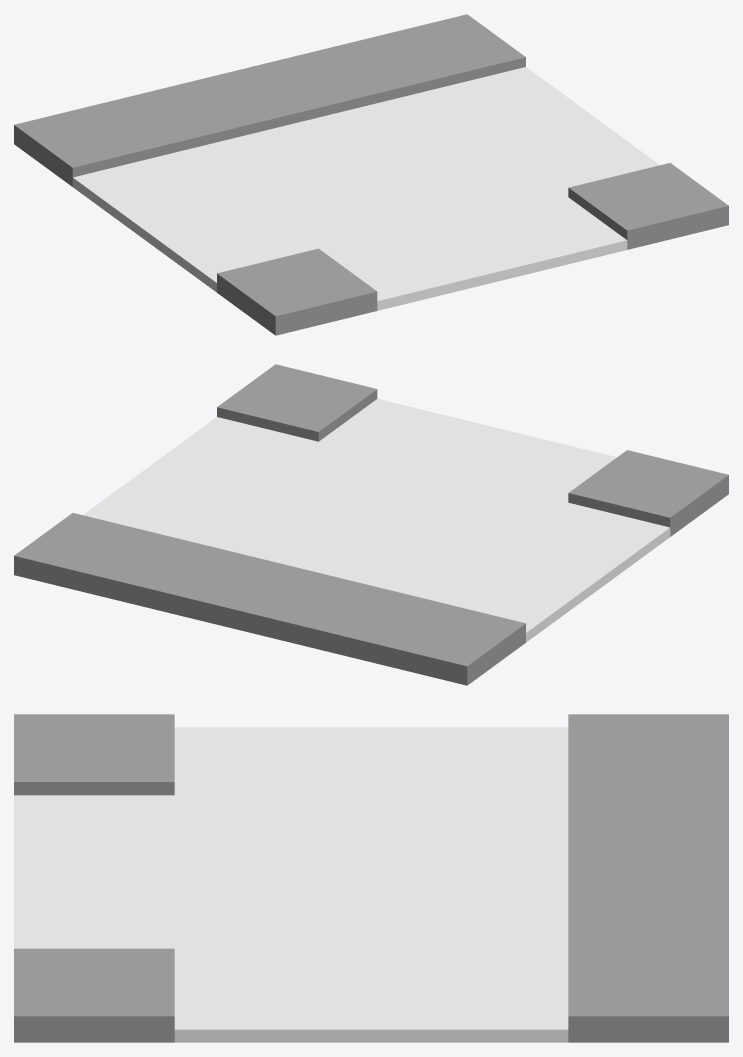
File: road_JR_49.gltf
3 renders of one model, top to bottom at view 1: azimuth 30°, elevation 25°; view 2: azimuth 150°, elevation 25°; view 3: azimuth 270°, elevation 25°, orthographic. The views are drawn at different scales.
Visible parts, largest first — view 1: tar, stone, ink; view 2: tar, stone, ink; view 3: tar, stone, ink.
Part boxes in pixels (box(x1,y1,x2,y2)): tar: box(78, 71, 659, 308); stone: box(14, 14, 728, 335); ink: box(72, 67, 627, 310); tar: box(83, 401, 664, 638); stone: box(14, 364, 728, 685); ink: box(142, 398, 670, 642); tar: box(14, 727, 553, 1042); stone: box(14, 714, 728, 1042); ink: box(14, 727, 568, 1042).
Size of the model in its own units: 49 by 2 by 49.
3 materials, 3 textured.
